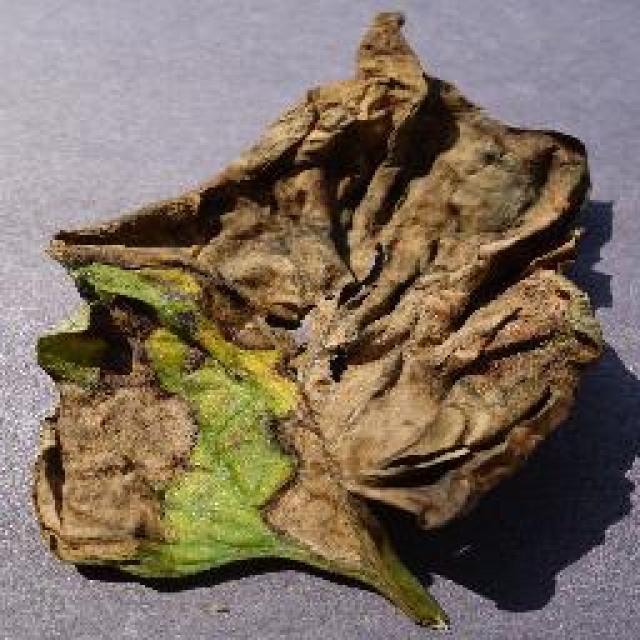Tomato late blight leaf: (24, 9, 608, 584)
